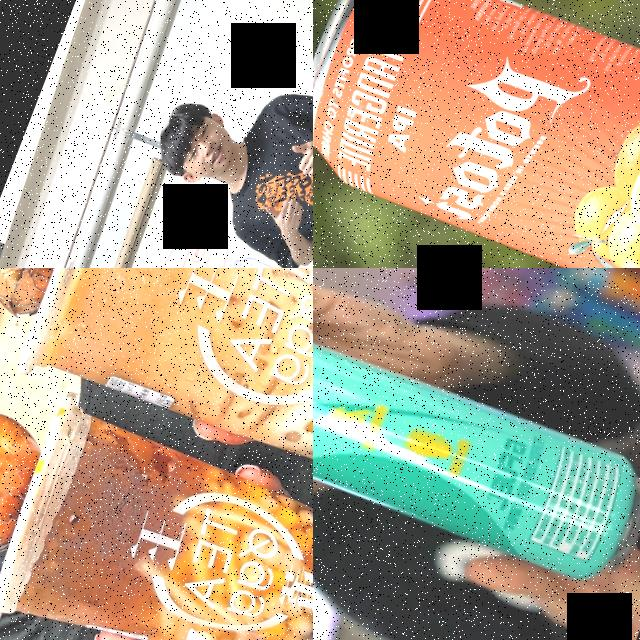can: (313, 268, 640, 596), (313, 0, 640, 268)
cup: (12, 268, 313, 538), (0, 386, 313, 640)
